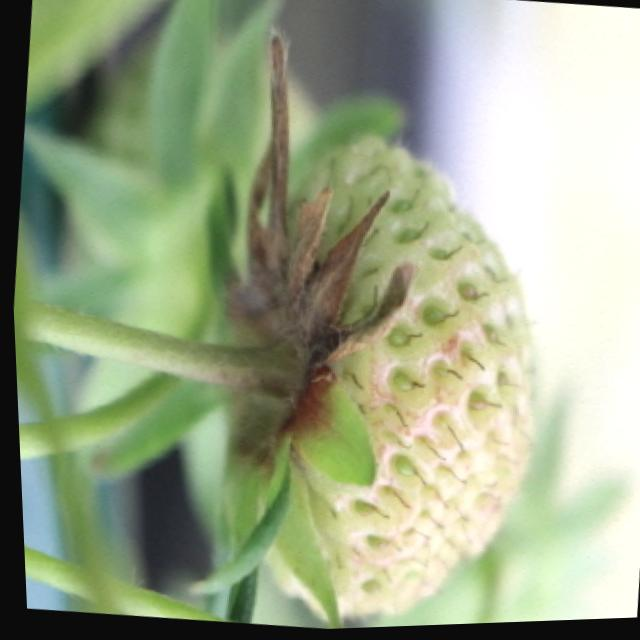Gray Mold: (220, 31, 413, 450)
